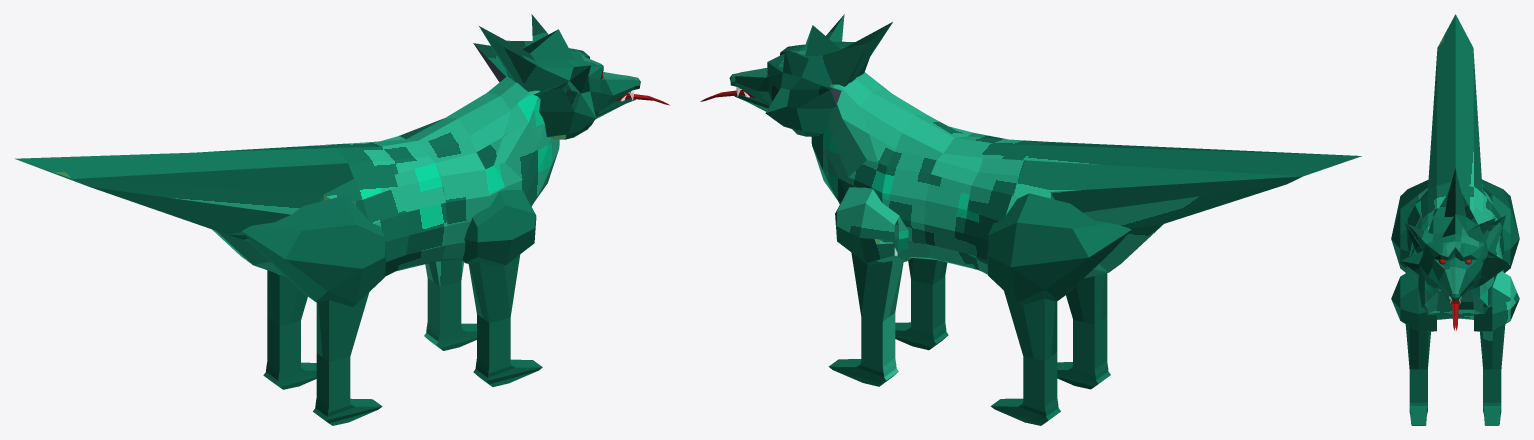
File: lizard_wolf.gltf
3 views of the same model, side by side, from view 1: azimuth 30°, elevation 25°; view 2: azimuth 150°, elevation 25°; view 3: azimuth 270°, elevation 25° (orthographic). The views are drawn at different scales.
Visible parts, largest first — view 1: body, cube (×8), head; view 2: body, cube (×8), head; view 3: body, cube (×6), head, tongue.
Boxes of the visible parts, x1,y1,x2,y2 form: body: [15, 76, 559, 276]; cube (×8): [242, 190, 542, 425]; head: [473, 14, 640, 139]; body: [811, 72, 1361, 278]; cube (×8): [828, 187, 1131, 425]; head: [729, 14, 892, 136]; body: [1406, 14, 1503, 319]; cube (×6): [1391, 179, 1519, 425]; head: [1400, 168, 1510, 304]; tongue: [1451, 300, 1459, 330].
Size of the model in its own units: 1.92 by 0.9395 by 0.4375.
8 materials, 8 textured.
